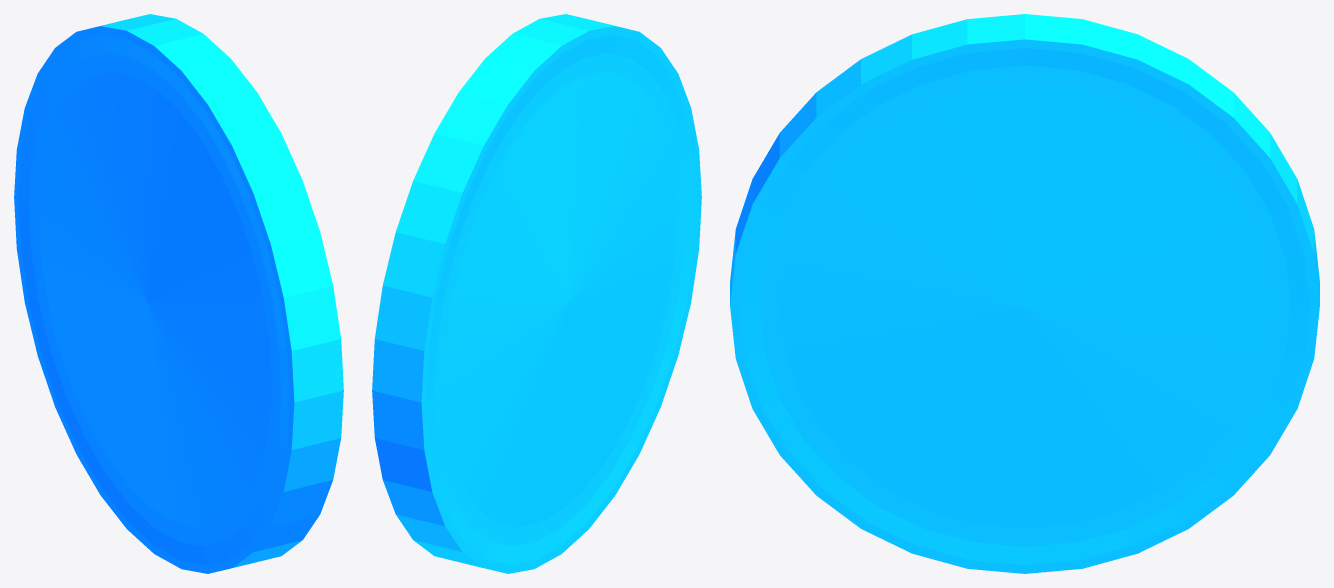
File: ball.gltf
The picture shows the model from 3 angles, left to right: view 1: azimuth 30°, elevation 25°; view 2: azimuth 150°, elevation 25°; view 3: azimuth 270°, elevation 25°; orthographic projection. The views are drawn at different scales.
Parts seen in each view (by area): view 1: Circle; view 2: Circle; view 3: Circle.
Boxes of the visible parts, box(x1,y1,x2,y2) form: Circle: box(14, 14, 343, 573); Circle: box(372, 14, 701, 573); Circle: box(730, 14, 1319, 573).
Bounding box in the file's own units: 0.0115 × 0.0926 × 0.0926.
